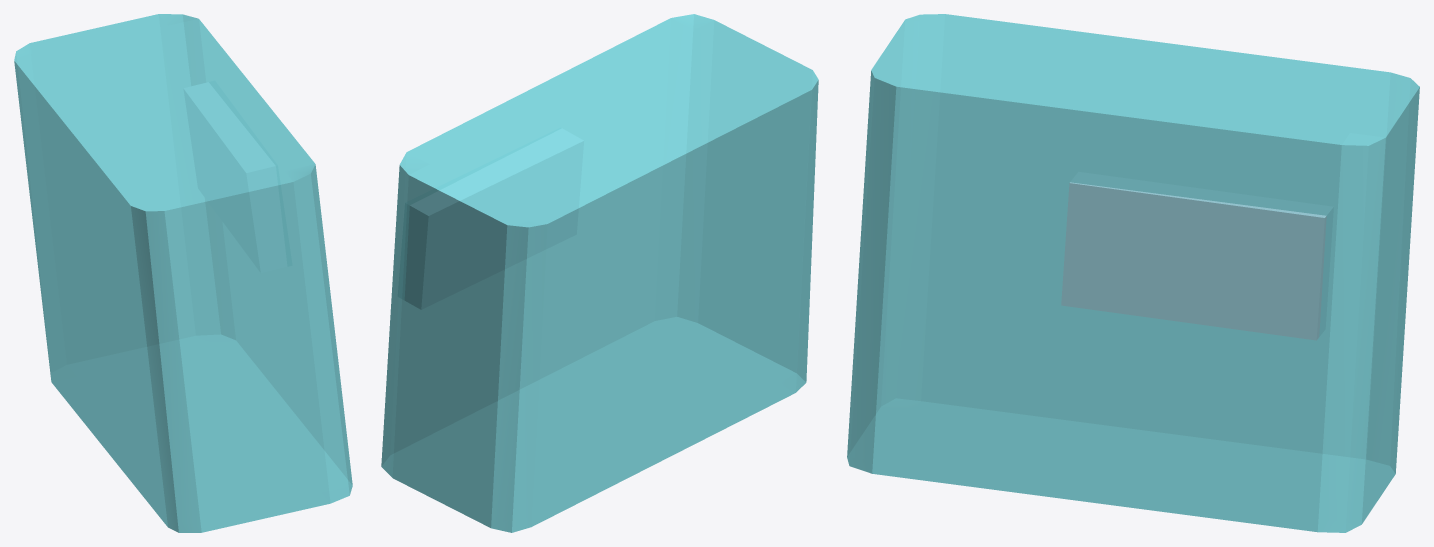
Rendered from morse code hologram puzzle hologram full screen with box to display numbers.fbx.
3 renders of one model, left to right at view 1: azimuth 30°, elevation 25°; view 2: azimuth 150°, elevation 25°; view 3: azimuth 270°, elevation 25°, orthographic. The views are drawn at different scales.
Visible parts, largest first — view 1: 1a3f4669-4b9f-4f8b-bbc0-9660996a3bb6; view 2: 1a3f4669-4b9f-4f8b-bbc0-9660996a3bb6; view 3: 1a3f4669-4b9f-4f8b-bbc0-9660996a3bb6.
Boxes of the visible parts, box(x1,y1,x2,y2) form: 1a3f4669-4b9f-4f8b-bbc0-9660996a3bb6: box(14, 14, 352, 532); 1a3f4669-4b9f-4f8b-bbc0-9660996a3bb6: box(381, 14, 818, 532); 1a3f4669-4b9f-4f8b-bbc0-9660996a3bb6: box(847, 14, 1419, 532).
Size of the model in its own units: 44668 by 56658 by 71856.
